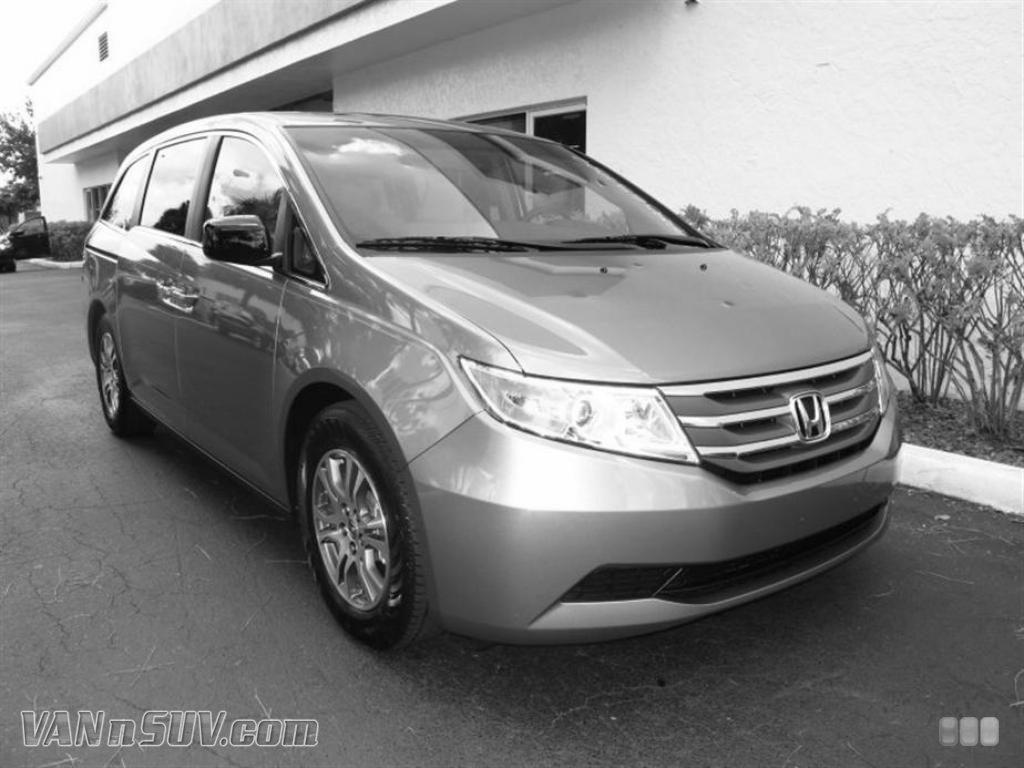car: (84, 112, 901, 661)
